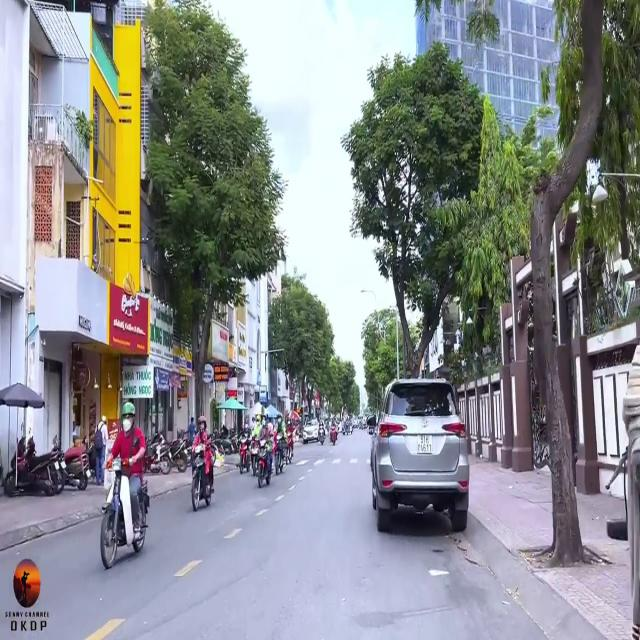bien_trang: (416, 430, 433, 460)
